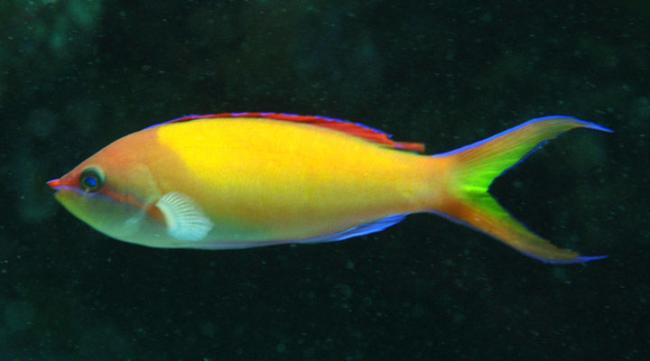fish: (47, 112, 615, 264)
